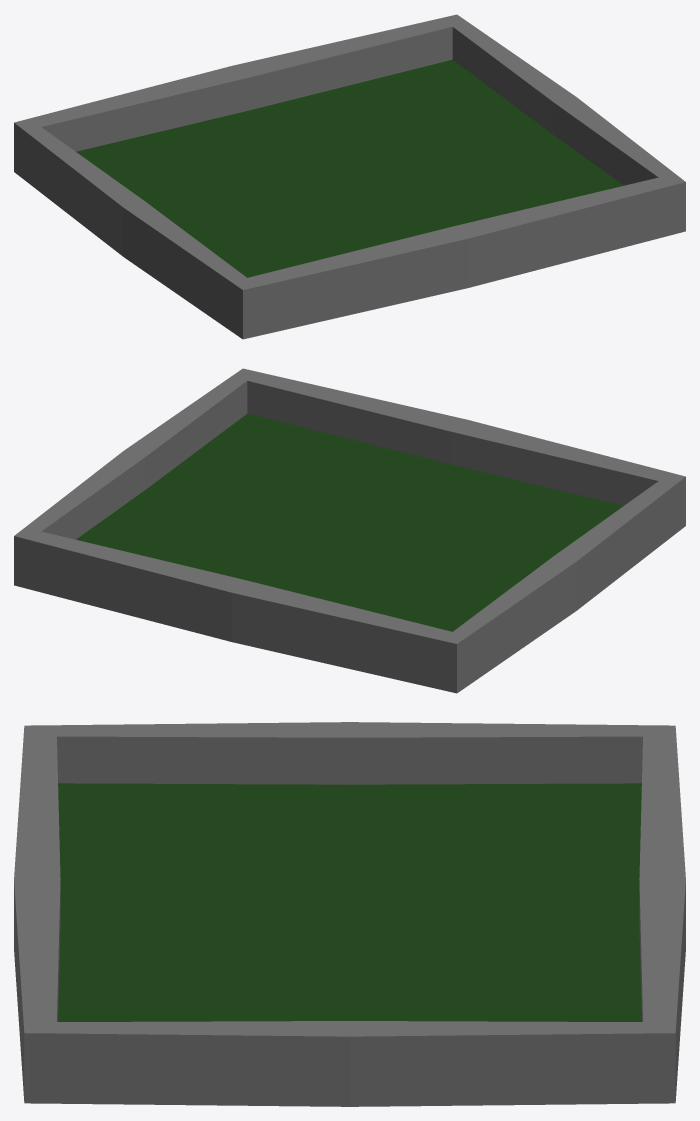
File: GrassSquereGray.obj
3 renders of one model, top to bottom at view 1: azimuth 30°, elevation 25°; view 2: azimuth 150°, elevation 25°; view 3: azimuth 270°, elevation 25°, orthographic. The views are drawn at different scales.
Parts seen in each view (by area): view 1: trawka.002; view 2: trawka.002; view 3: trawka.002.
Part boxes in pixels (left/top/right/bottom): trawka.002: left=14, top=14, right=685, bottom=339; trawka.002: left=14, top=368, right=685, bottom=693; trawka.002: left=14, top=722, right=685, bottom=1106.
Bounding box in the file's own units: 5.76 × 0.6 × 5.2.
